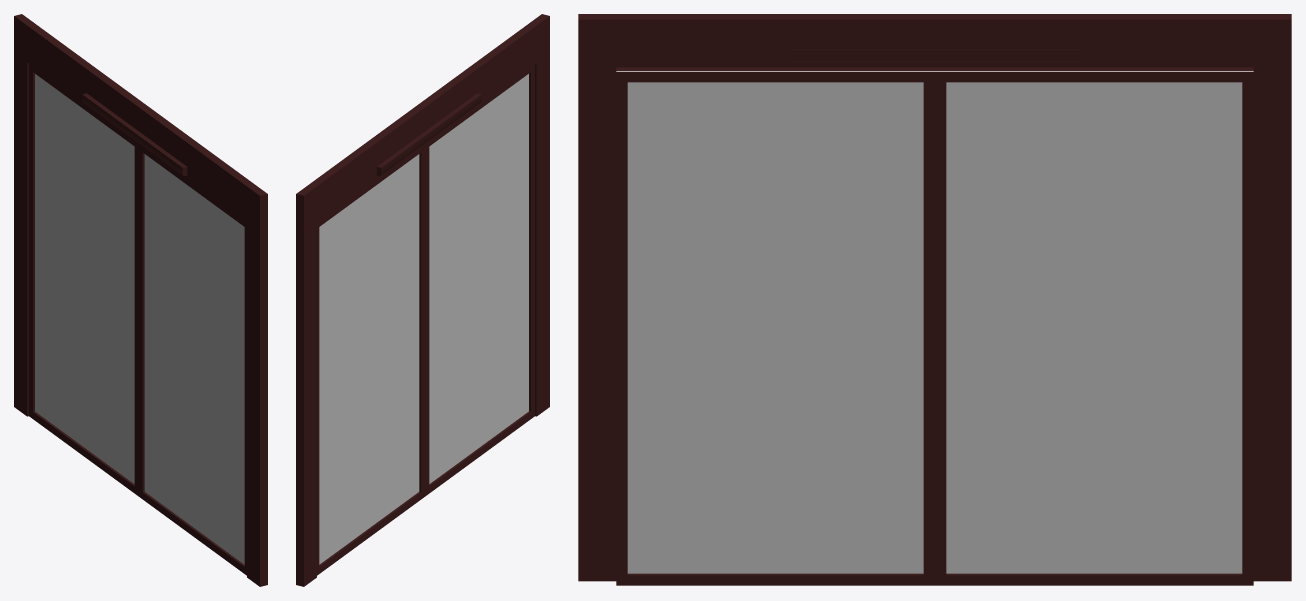
Rendered from door.FBX.
The picture shows the model from 3 angles, left to right: view 1: azimuth 30°, elevation 25°; view 2: azimuth 150°, elevation 25°; view 3: azimuth 270°, elevation 25°; orthographic projection. The views are drawn at different scales.
Parts seen in each view (by area): view 1: windows, Door Frame; view 2: windows, Door Frame; view 3: windows, Door Frame.
Boxes of the visible parts, bbox=[...] form: windows: bbox=[35, 74, 244, 564]; Door Frame: bbox=[14, 14, 267, 586]; windows: bbox=[319, 74, 528, 564]; Door Frame: bbox=[296, 14, 549, 586]; windows: bbox=[627, 82, 1242, 573]; Door Frame: bbox=[578, 14, 1291, 585].
Bounding box in the file's own units: 4.63 × 139 × 158.
